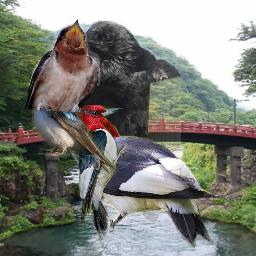Crow: (63, 19, 181, 205)
Swallow: (32, 83, 117, 179), (25, 19, 100, 118)
Woodpecker: (33, 117, 217, 248), (74, 105, 132, 244)
